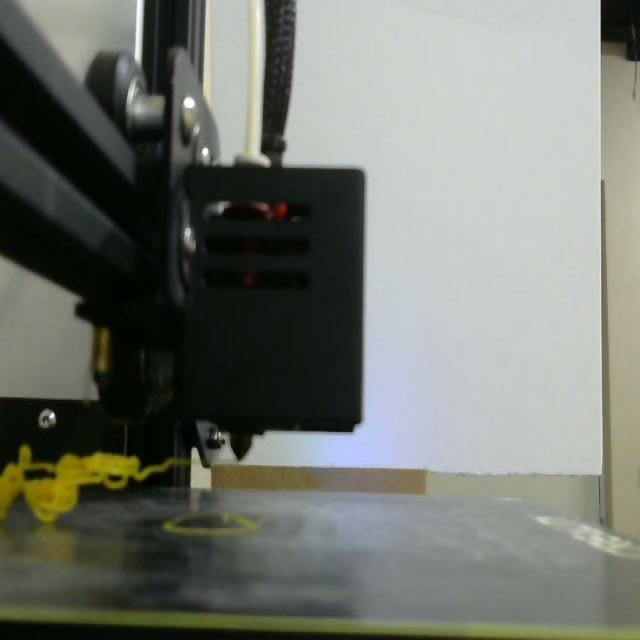spaghetti: (0, 445, 189, 522)
